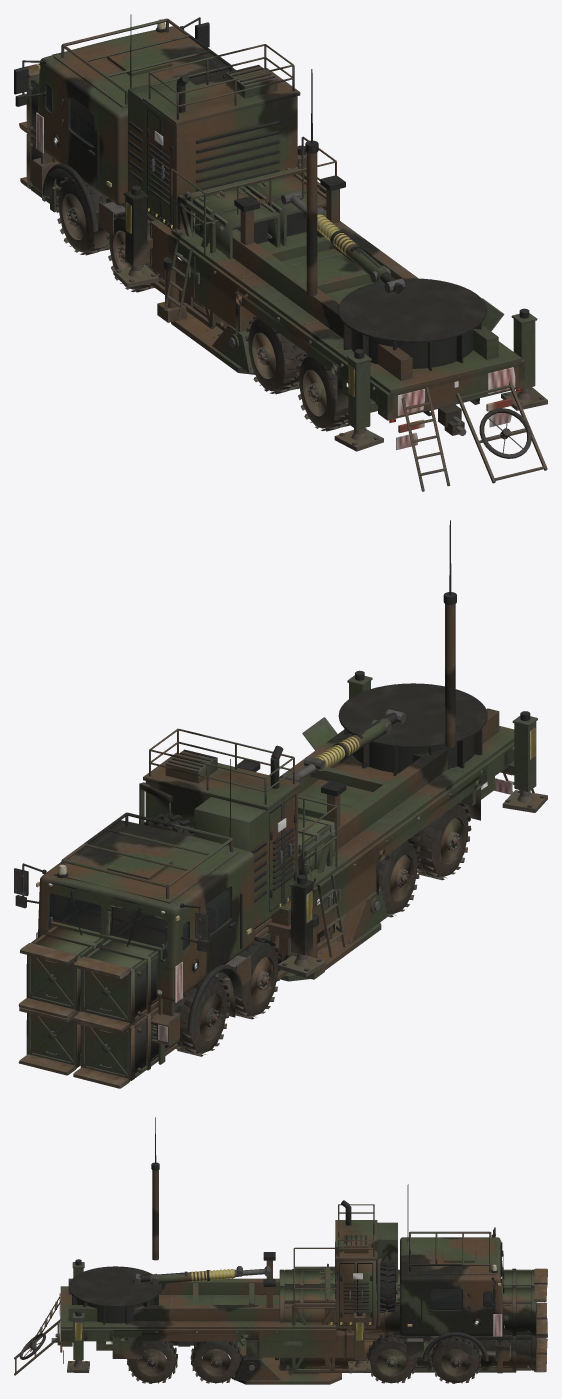
File: patriot_lo.glb
3 renders of one model, top to bottom at view 1: azimuth 30°, elevation 25°; view 2: azimuth 150°, elevation 25°; view 3: azimuth 270°, elevation 25°, orthographic. The views are drawn at different scales.
Parts seen in each view (by area): view 1: body|PT_A, body|PT_W, cradle|PT_B, body|PT_C, turret|PT_A, mast0|PT_A, cyl0|PT_A, body|glass, jack2|PT_A, jack0|PT_A, jack3|PT_A, cyl1|PT_A; view 2: body|PT_A, cradle|PT_B, body|PT_W, body|PT_C, body|glass, turret|PT_A, mast0|PT_A, cyl0|PT_A, jack0|PT_A, jack2|PT_A; view 3: body|PT_A, cradle|PT_B, body|PT_W, turret|PT_A, body|PT_C, body|glass, mast0|PT_A, cyl0|PT_A, cyl1|PT_A, cradle|PT_C.
Boxes of the visible parts, x1,y1,x2,y2 form: body|PT_A: (14,14,547,491); body|PT_W: (55,176,479,431); cradle|PT_B: (19,63,326,336); body|PT_C: (36,47,522,435); turret|PT_A: (157,257,304,374); mast0|PT_A: (305,140,318,295); cyl0|PT_A: (330,230,391,285); body|glass: (47,85,94,145); jack2|PT_A: (334,428,383,451); jack0|PT_A: (113,264,159,287); jack3|PT_A: (501,387,547,410); cyl1|PT_A: (317,214,356,256); body|PT_A: (14,670,537,1045); cradle|PT_B: (18,813,334,1088); body|PT_W: (142,776,494,1056); body|PT_C: (36,746,514,1017); body|glass: (50,888,229,958); turret|PT_A: (280,888,388,981); mast0|PT_A: (443,592,456,747); cyl0|PT_A: (332,717,391,760); jack0|PT_A: (278,953,326,977); jack2|PT_A: (502,790,547,812); body|PT_A: (14,1184,510,1375); cradle|PT_B: (275,1263,547,1375); body|PT_W: (96,1262,481,1383); turret|PT_A: (231,1341,341,1384); body|PT_C: (51,1240,502,1367); body|glass: (430,1288,491,1309); mast0|PT_A: (151,1162,159,1260); cyl0|PT_A: (150,1270,209,1284); cyl1|PT_A: (191,1269,241,1281); cradle|PT_C: (286,1305,529,1368).
Bounding box in the file's own units: 3.61 × 6.29 × 13.33.
20 materials, 19 textured.
